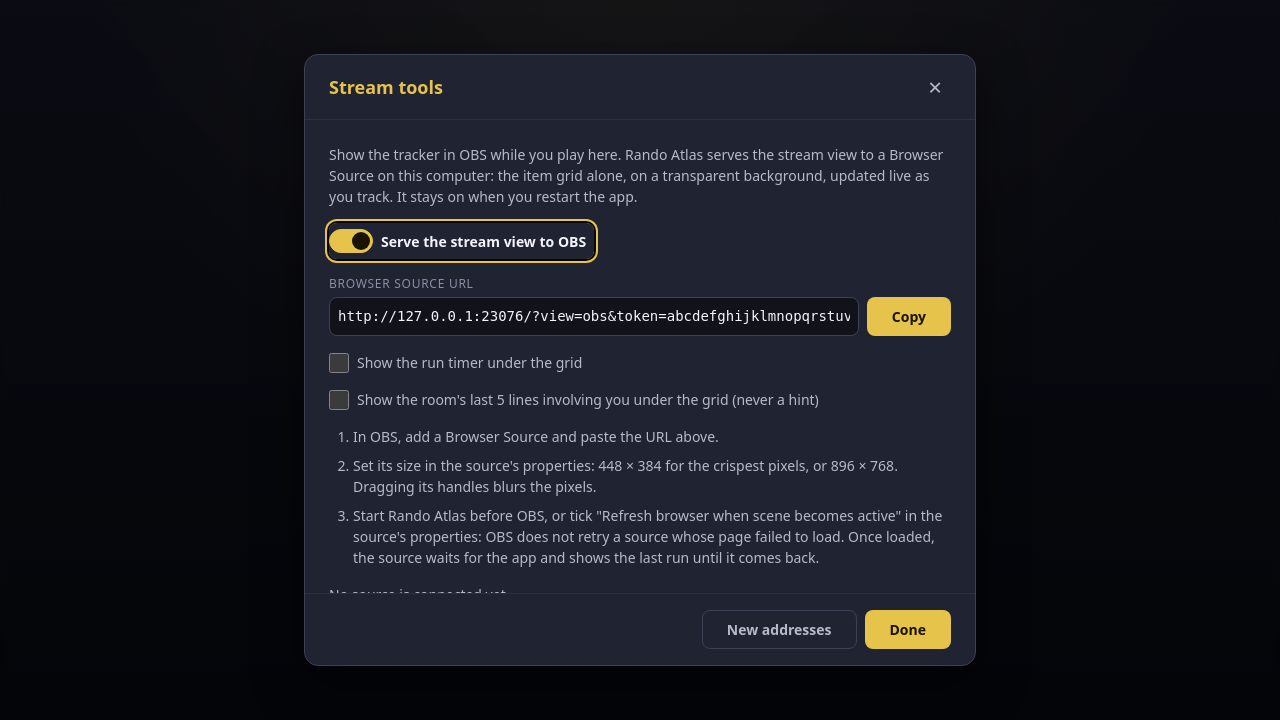
Test case: StreamToolsDialog › offers Archipelago's feed, off until ticked, with its rows
Expected: the dialog "Stream tools" shows "448 × 384 for the crispest", [304, 54, 976, 666]
Click the checkbox with test id "stream-tools-feed".
click(339, 400)  # box [329, 390, 349, 410]
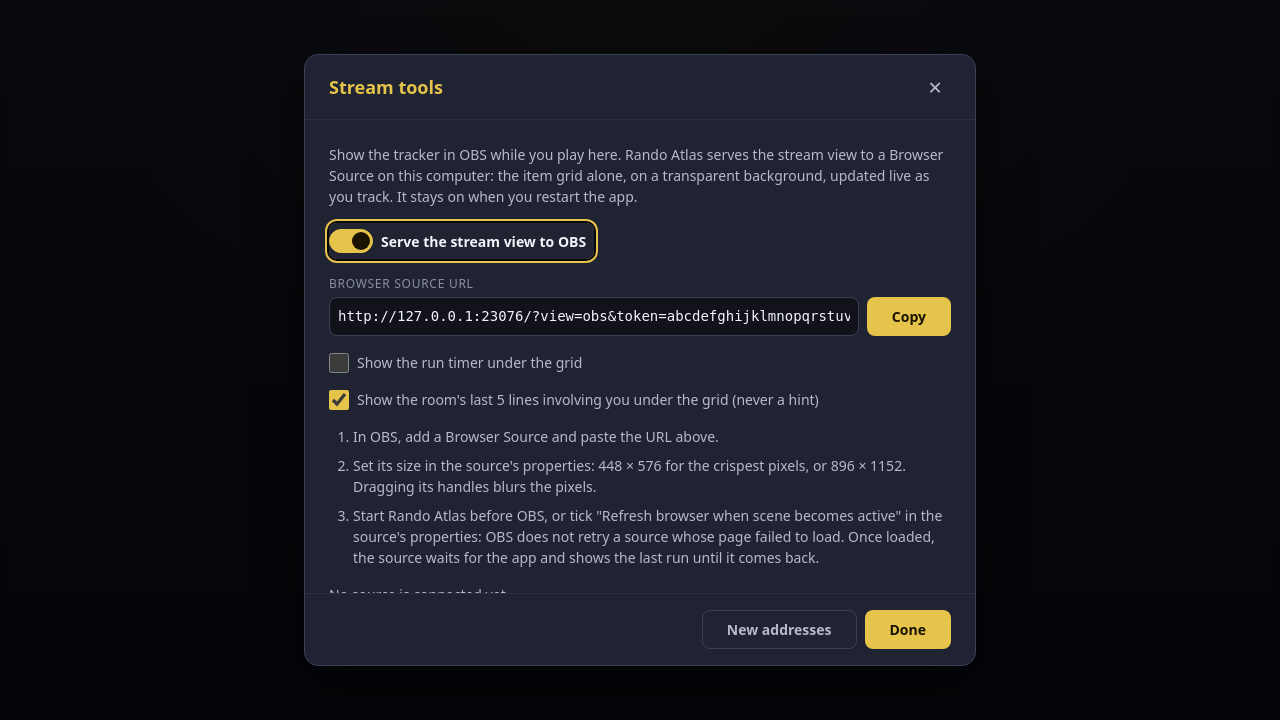
Click the checkbox with test id "stream-tools-timer".
click(339, 362)  # box [329, 352, 349, 372]
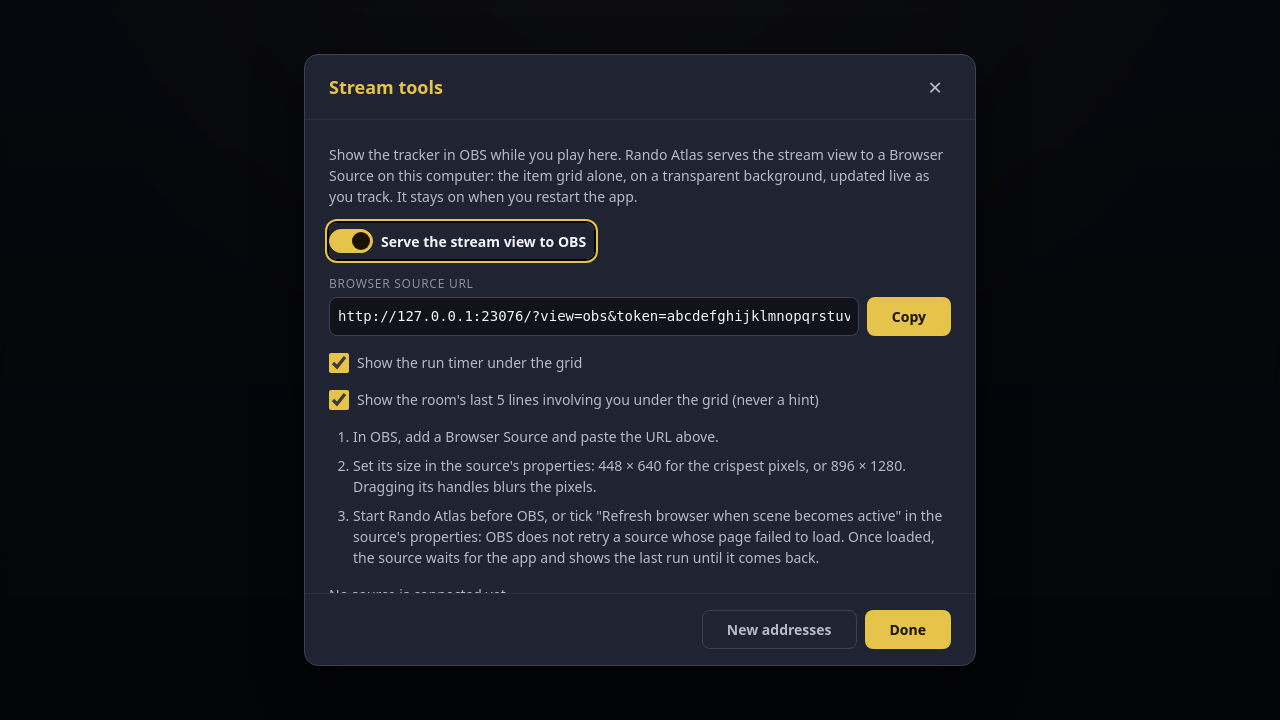
Expected: the dialog "Stream tools" shows "448 × 640 for the crispest", [304, 54, 976, 666]
